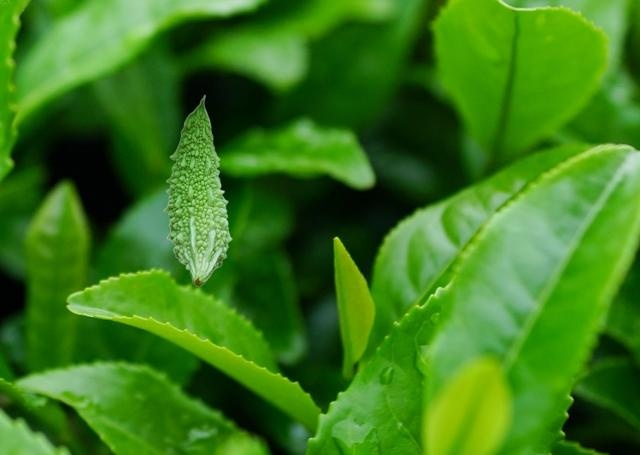ampalaya: (162, 94, 232, 288)
